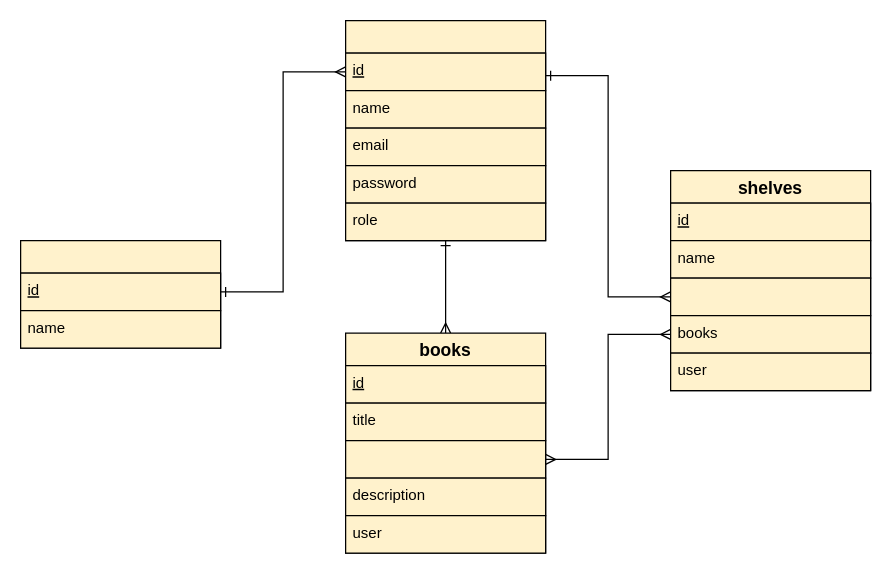
Some shapes in this 891 by 574 pixel diagram are drawn without their labels. The box of each missing label's shape, as (x1, y1, x2, y2) in pixels:
author: (344, 439, 546, 478)
roles: (19, 239, 221, 348)
tags: (669, 277, 871, 316)
users: (344, 19, 546, 241)
